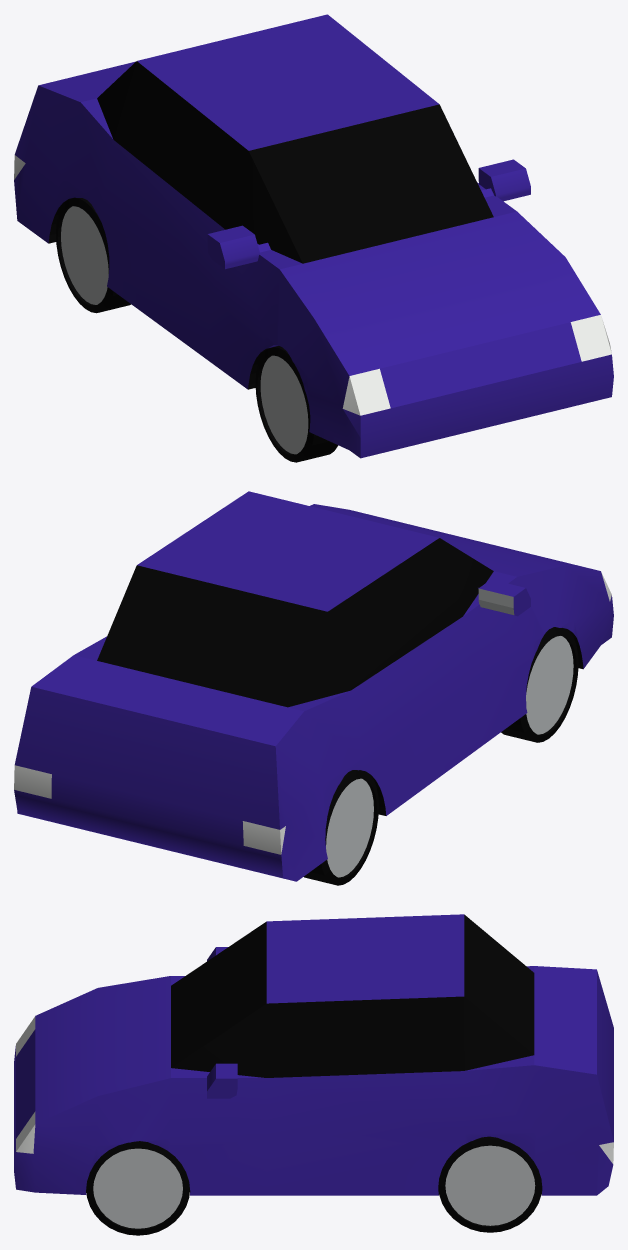
The model's file is CarSmallBlue.fbx.
The picture shows the model from 3 angles, top to bottom: view 1: azimuth 30°, elevation 25°; view 2: azimuth 150°, elevation 25°; view 3: azimuth 270°, elevation 25°; orthographic projection. The views are drawn at different scales.
Visible parts, largest first — view 1: Cube.012, Cylinder.018, Cylinder.019, Cube.014, Cube.013; view 2: Cube.012, Cylinder.019, Cylinder.018, Cube.014; view 3: Cube.012, Cylinder.016, Cylinder.017, Cube.013.
Part boxes in pixels (<box>): Cube.012: <box>14,14,613,458</box>; Cylinder.018: <box>255,346,337,462</box>; Cylinder.019: <box>56,197,130,313</box>; Cube.014: <box>207,225,270,269</box>; Cube.013: <box>478,159,530,201</box>; Cube.012: <box>14,491,613,881</box>; Cylinder.019: <box>304,770,378,885</box>; Cylinder.018: <box>501,627,578,742</box>; Cube.014: <box>478,579,530,616</box>; Cube.012: <box>14,914,613,1195</box>; Cylinder.016: <box>438,1136,542,1232</box>; Cylinder.017: <box>86,1141,189,1235</box>; Cube.013: <box>207,1063,237,1098</box>.
Size of the model in its own units: 438 by 346 by 843.
